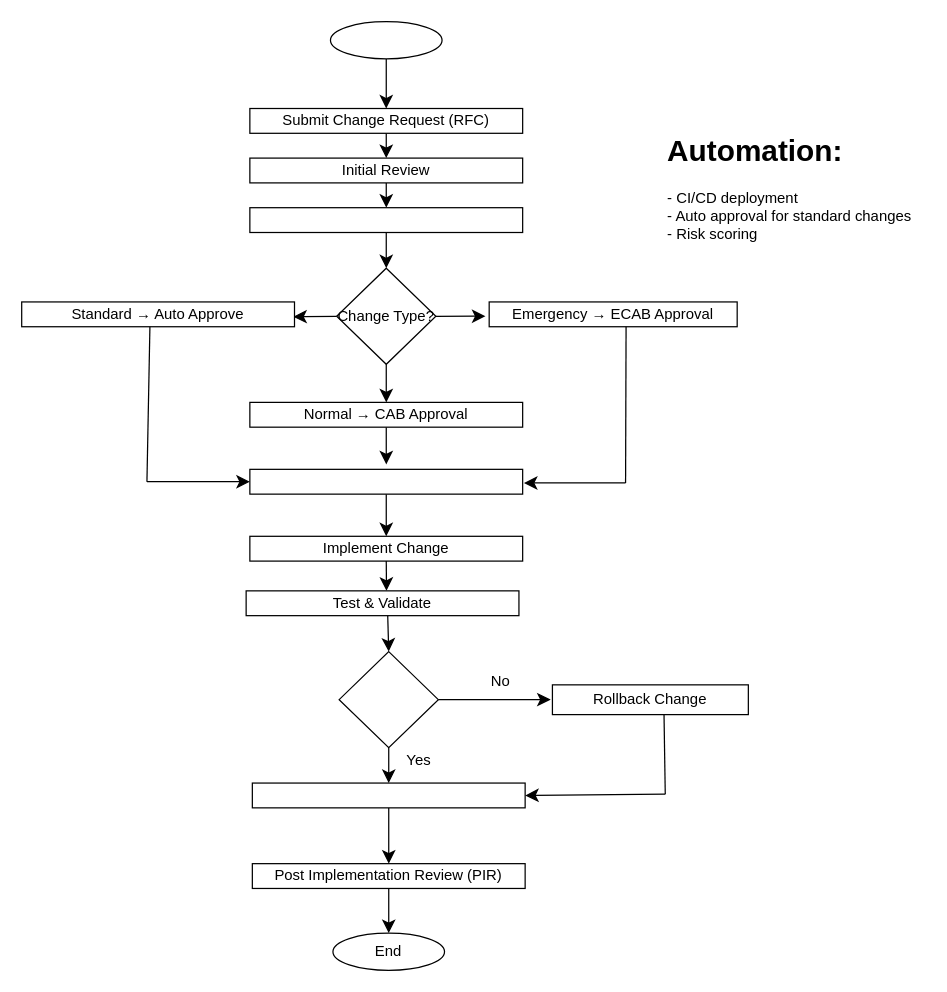
The diagram is 947 pixels wide and 992 high, and some of its shapes have lost their labels. The box of each missing label's shape, as (x1, y1, x2, y2) in pixels:
Assess Risk & Impact: (249, 206, 523, 232)
Close Change: (251, 782, 525, 808)
Plan & Schedule Change: (249, 468, 523, 494)
Start: (329, 20, 442, 59)
Successful?: (338, 650, 438, 748)
